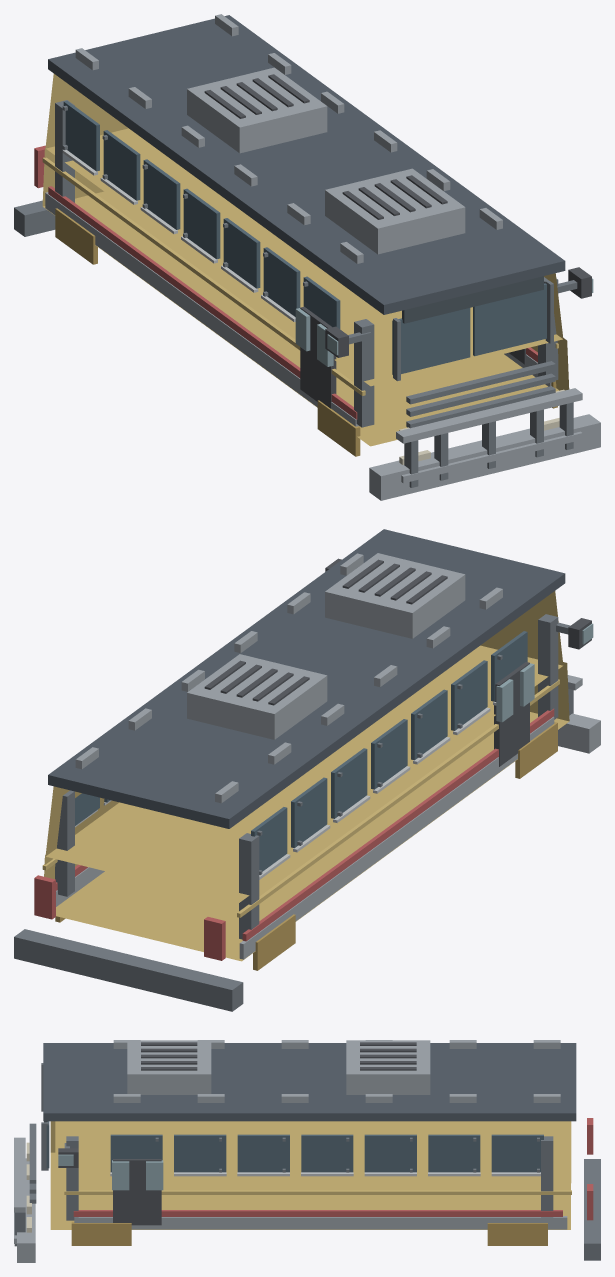
The model's file is omega-bus.glb.
3 views of the same model, one above another, from view 1: azimuth 30°, elevation 25°; view 2: azimuth 150°, elevation 25°; view 3: azimuth 270°, elevation 25° (orthographic). The views are drawn at different scales.
Visible parts, largest first — view 1: omega-bus_material_01, omega-bus_material_02, omega-bus_material_00, omega-bus_material_05, omega-bus_material_07, omega-bus_material_08, omega-bus_material_04, omega-bus_material_10, omega-bus_material_03, omega-bus_material_11, omega-bus_material_06, omega-bus_material_09; view 2: omega-bus_material_01, omega-bus_material_00, omega-bus_material_02, omega-bus_material_07, omega-bus_material_05, omega-bus_material_08, omega-bus_material_04, omega-bus_material_10, omega-bus_material_03, omega-bus_material_06, omega-bus_material_09; view 3: omega-bus_material_01, omega-bus_material_00, omega-bus_material_02, omega-bus_material_05, omega-bus_material_08, omega-bus_material_07, omega-bus_material_04, omega-bus_material_10, omega-bus_material_03, omega-bus_material_06, omega-bus_material_09, omega-bus_material_12.
Boxes of the visible parts, <box> form: omega-bus_material_01: <box>48,15,565,314</box>; omega-bus_material_02: <box>45,14,600,500</box>; omega-bus_material_00: <box>42,73,569,446</box>; omega-bus_material_05: <box>63,101,546,375</box>; omega-bus_material_07: <box>14,100,577,487</box>; omega-bus_material_08: <box>204,74,591,408</box>; omega-bus_material_04: <box>34,145,537,419</box>; omega-bus_material_10: <box>55,208,557,456</box>; omega-bus_material_03: <box>42,157,558,395</box>; omega-bus_material_11: <box>402,276,543,323</box>; omega-bus_material_06: <box>62,150,295,321</box>; omega-bus_material_09: <box>295,278,593,366</box>; omega-bus_material_01: <box>48,529,565,828</box>; omega-bus_material_00: <box>44,591,569,961</box>; omega-bus_material_02: <box>56,553,600,959</box>; omega-bus_material_07: <box>14,614,573,1011</box>; omega-bus_material_05: <box>75,631,527,871</box>; omega-bus_material_08: <box>204,558,591,766</box>; omega-bus_material_04: <box>34,708,554,960</box>; omega-bus_material_10: <box>55,722,557,970</box>; omega-bus_material_03: <box>42,679,559,917</box>; omega-bus_material_06: <box>75,701,496,879</box>; omega-bus_material_09: <box>496,623,593,722</box>; omega-bus_material_01: <box>43,1043,576,1121</box>; omega-bus_material_00: <box>50,1121,571,1229</box>; omega-bus_material_02: <box>14,1040,567,1262</box>; omega-bus_material_05: <box>46,1121,543,1172</box>; omega-bus_material_08: <box>58,1042,416,1225</box>; omega-bus_material_07: <box>14,1063,600,1260</box>; omega-bus_material_04: <box>73,1118,593,1220</box>; omega-bus_material_10: <box>71,1221,547,1245</box>; omega-bus_material_03: <box>64,1190,571,1194</box>; omega-bus_material_06: <box>110,1172,540,1176</box>; omega-bus_material_09: <box>58,1154,163,1190</box>; omega-bus_material_12: <box>26,1142,31,1232</box>.
Bounding box in the file's own units: 6.43 × 4.97 × 16.08.
